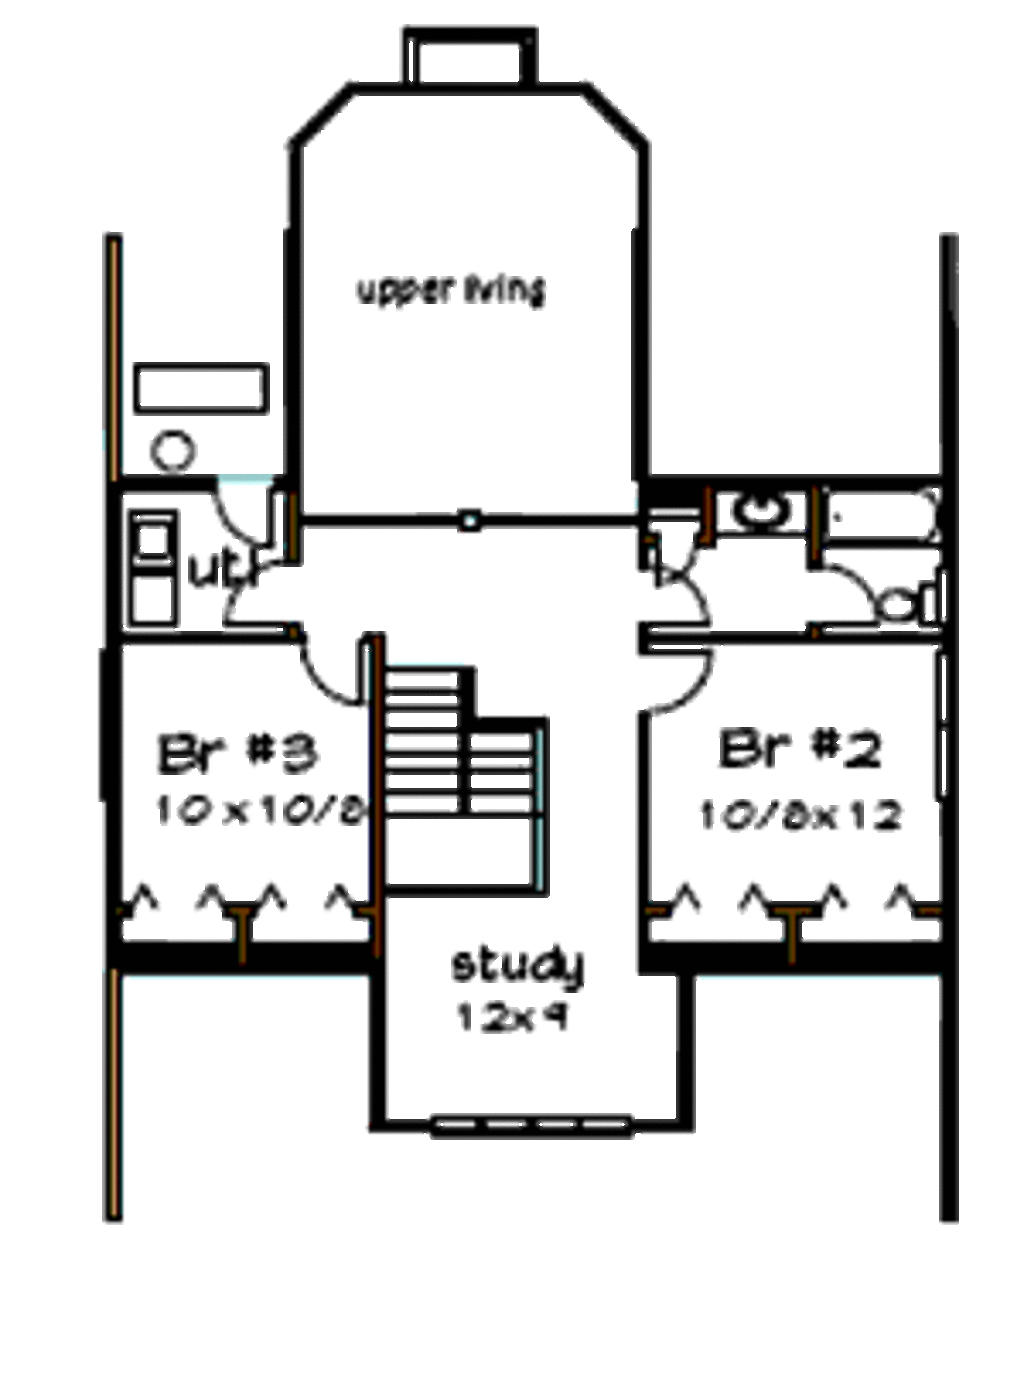door: (625, 638, 723, 720), (275, 636, 378, 710), (204, 555, 297, 633), (195, 466, 283, 547), (641, 544, 712, 631), (817, 560, 884, 640)
large_sink: (875, 570, 956, 642)
small_sink: (697, 479, 814, 544)
stairs: (366, 647, 556, 910)
tub: (817, 481, 951, 542)
window: (421, 1108, 644, 1144), (923, 651, 969, 820)
